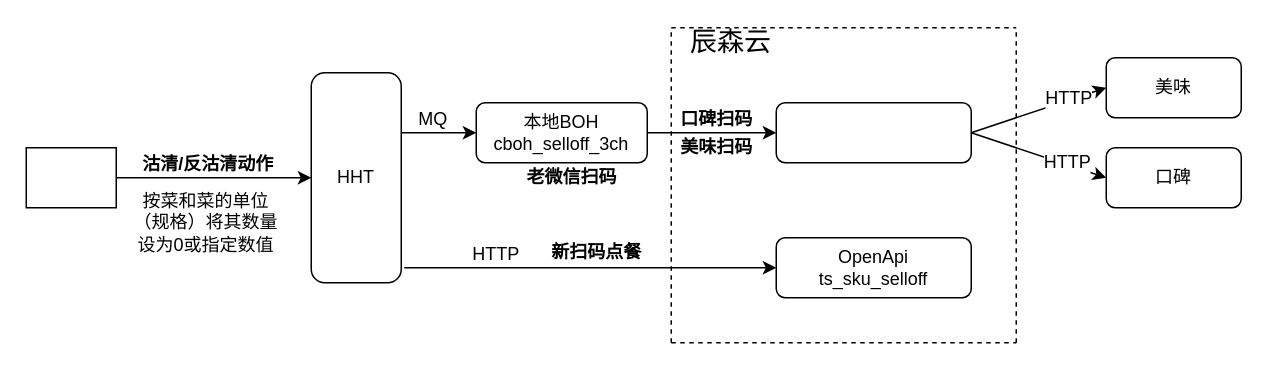
Image size: 1268x371. Some labels were removed from this diagram. Here are the shapes that lost their labels. From the top down, the centre of each, then its label:
point 873,132: BaseMember cboh_selloff_3ch
point 70,177: 门店POS
